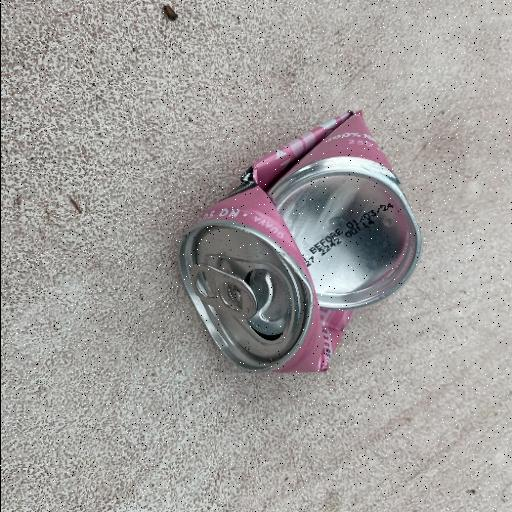Metal: (175, 108, 423, 378)
